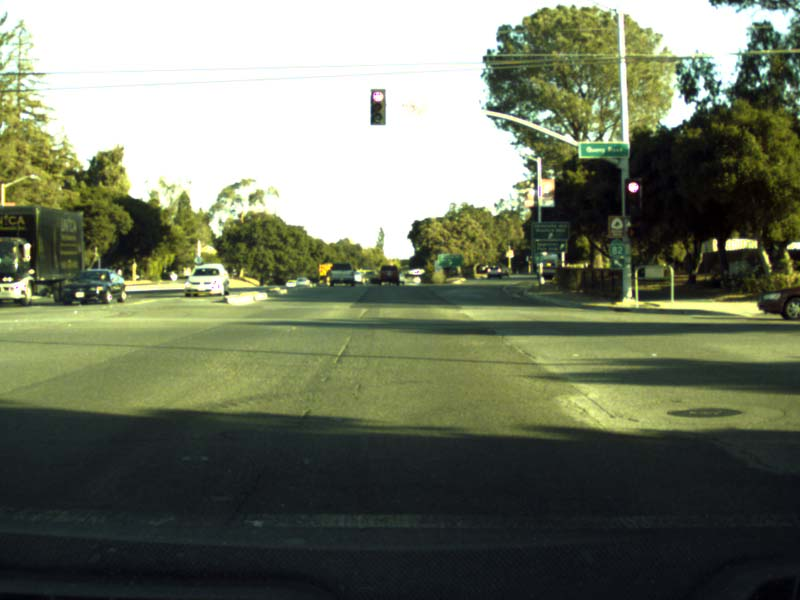Red: (370, 88, 385, 125), (624, 179, 640, 213)
